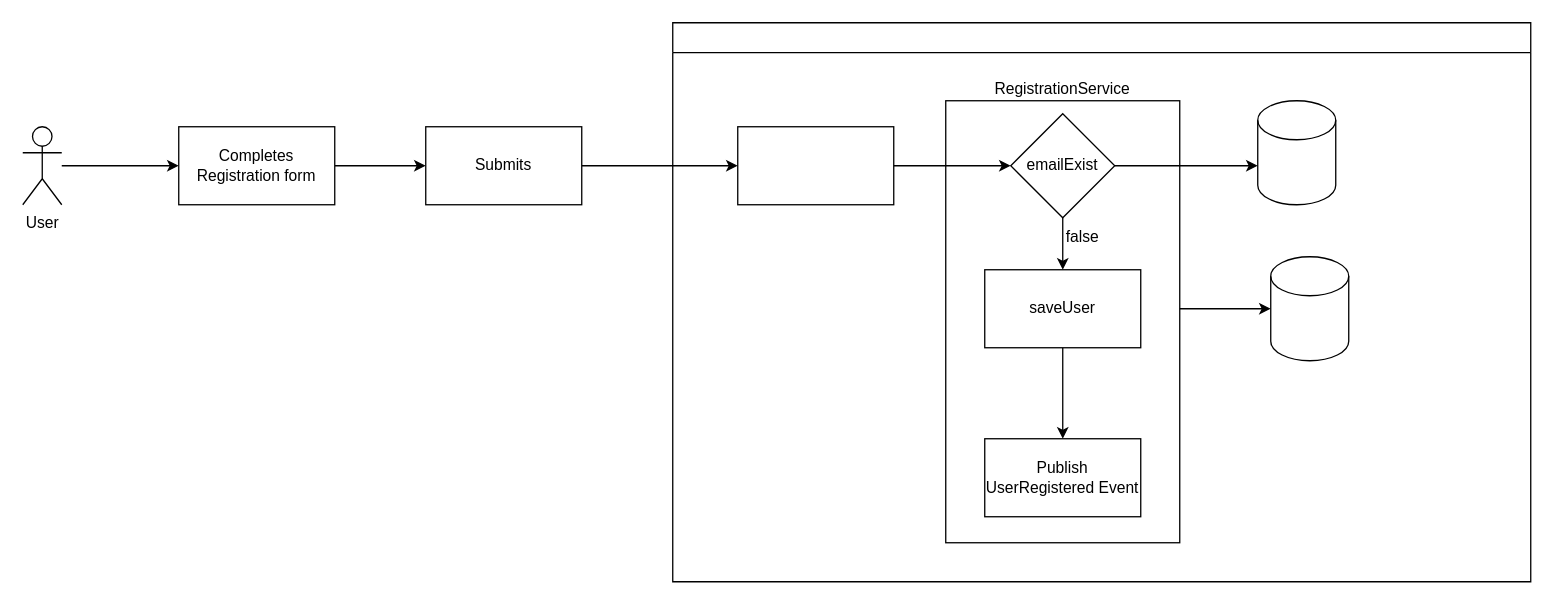
Some shapes in this 1554 by 605 pixel diagram are drawn without their labels. The centre of each missing label's shape, as x and y in pixels:
RegistrationController: the point at 815,165
User Repository: the point at 1309,308
User Repostory: the point at 1296,152
